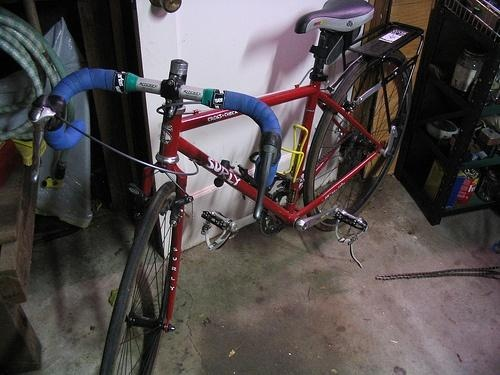bicycle: (29, 3, 425, 375)
